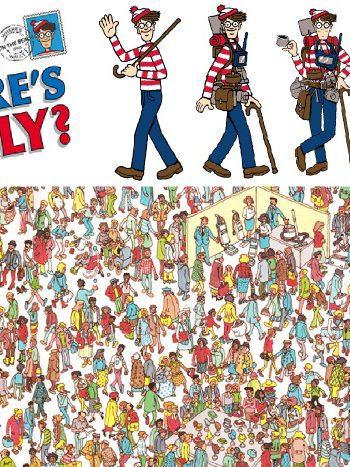waldo: (130, 5, 158, 43), (216, 4, 246, 38), (310, 7, 335, 40), (32, 19, 57, 48)
